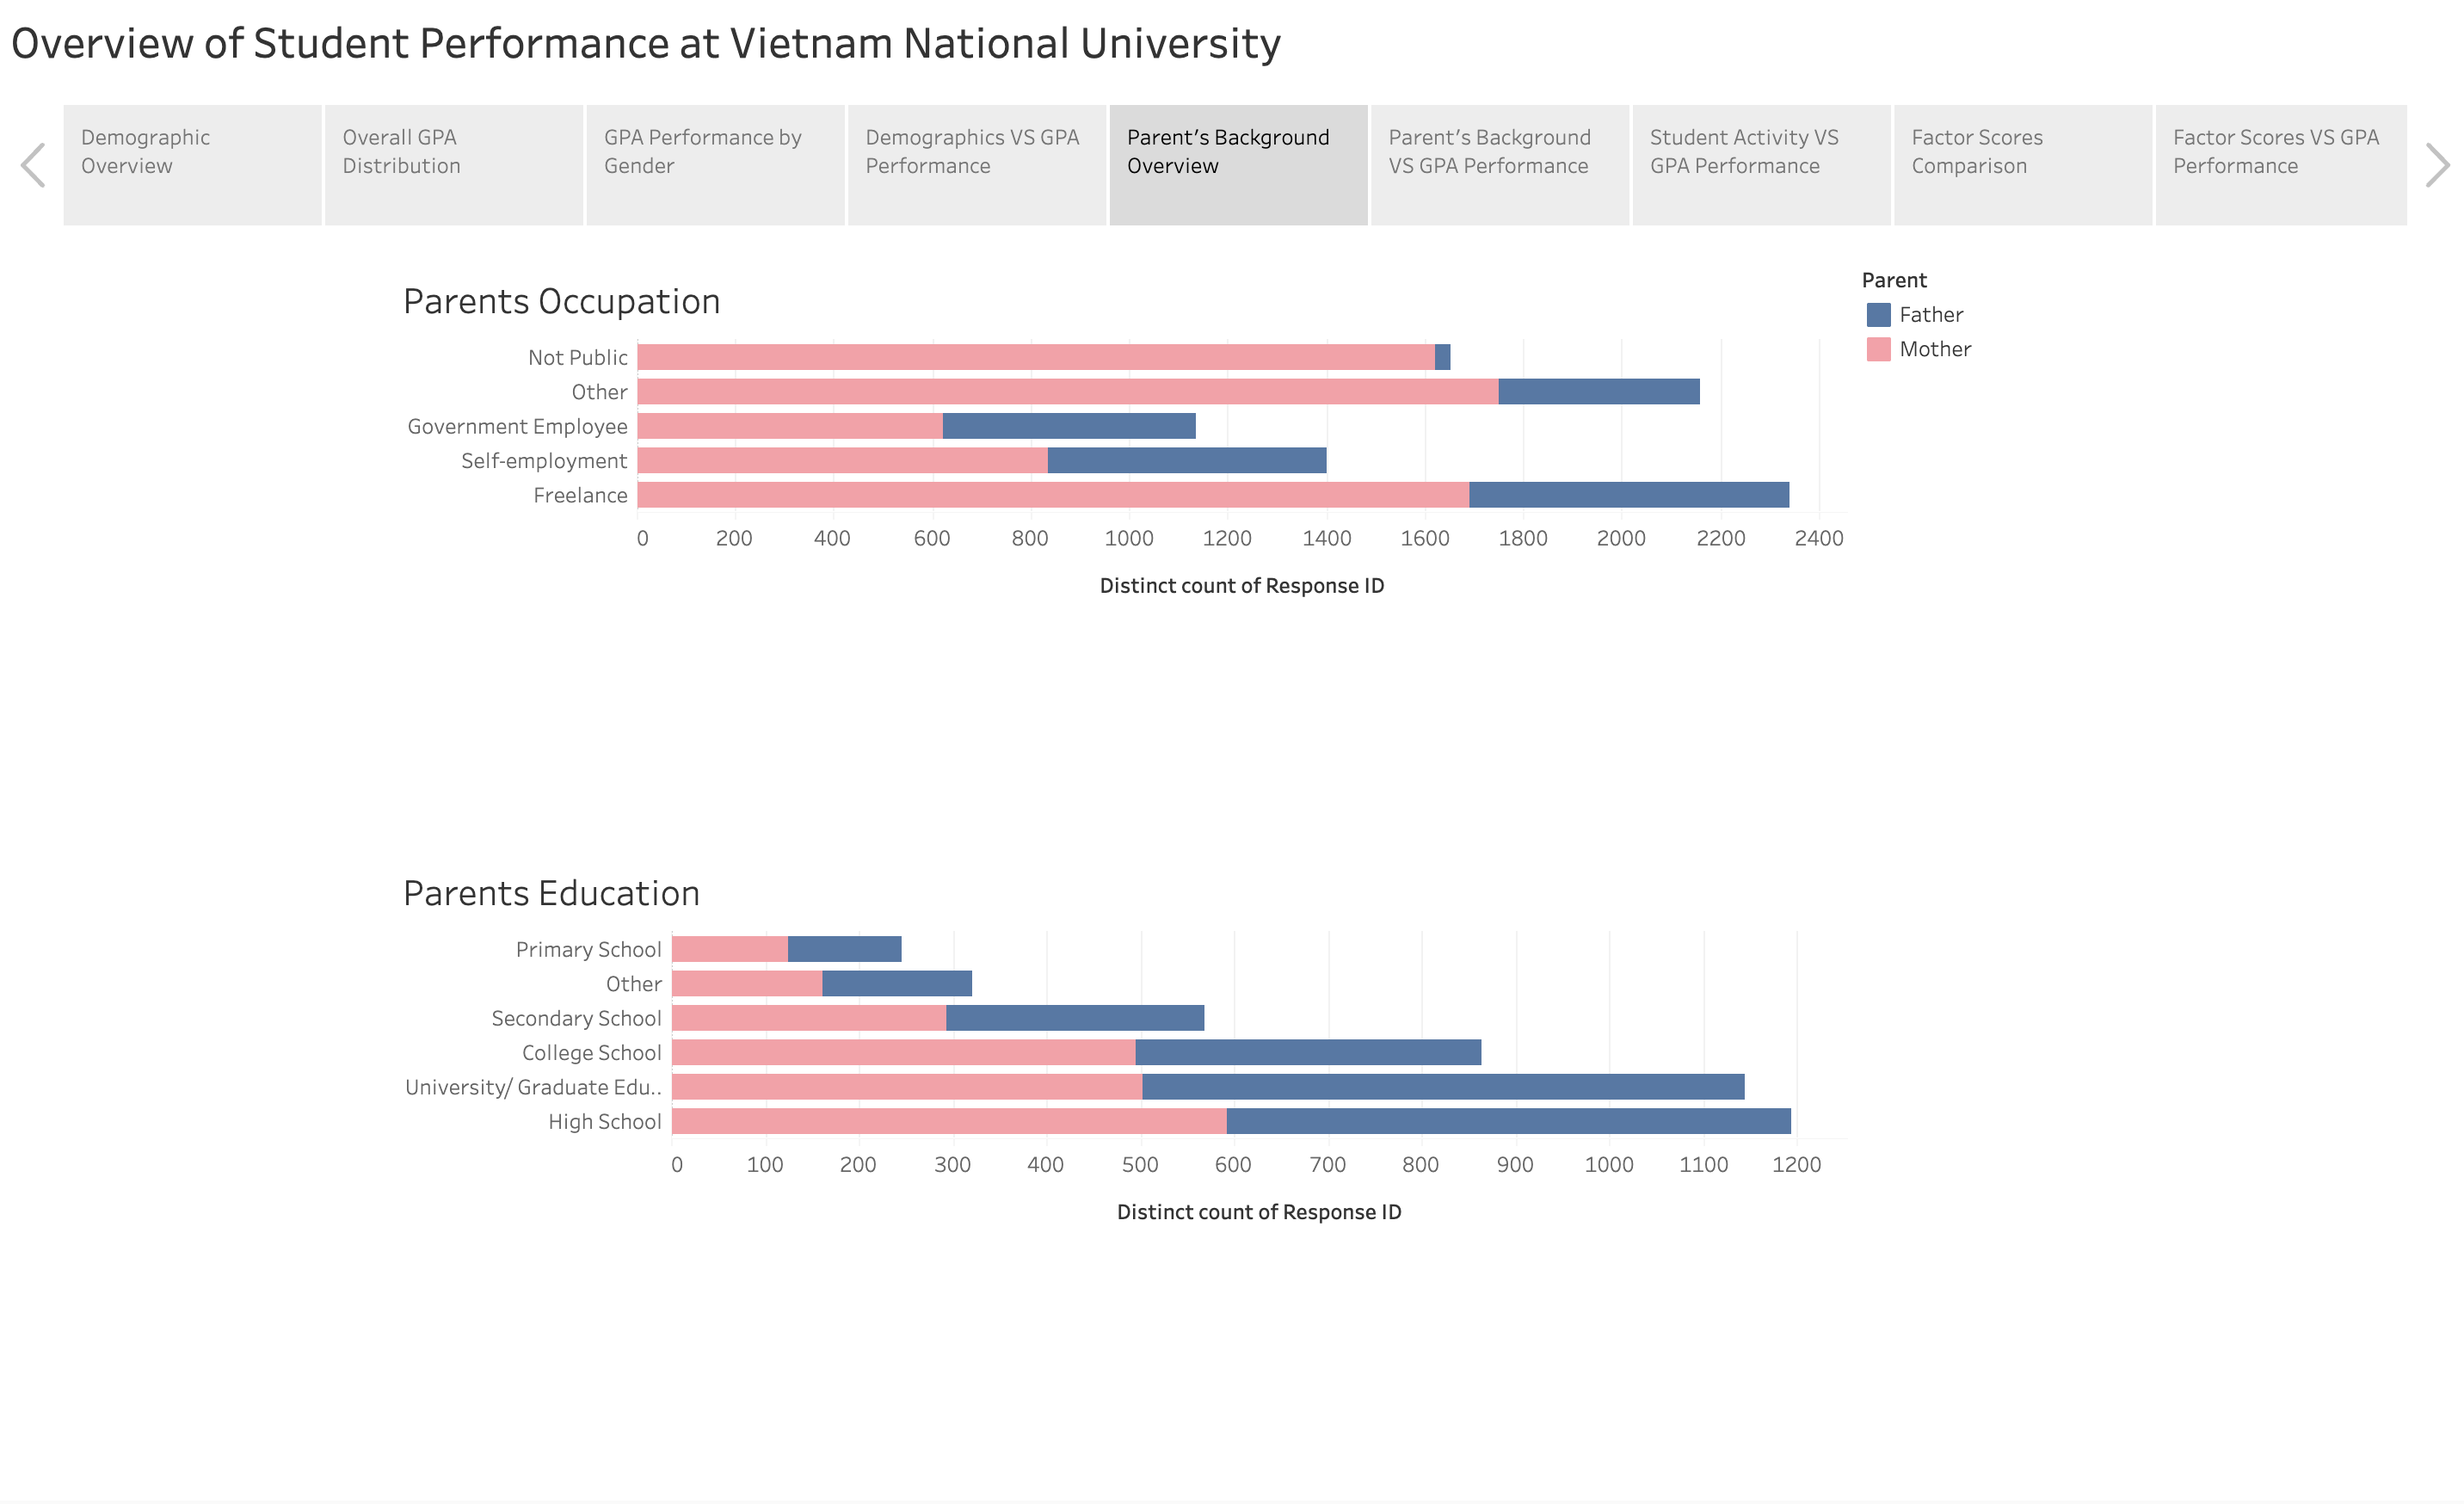

What the dashboard file says about the page in this screenshot:
{"tool":"tableau","page":{"name":"Parents Background","canvas":[1000,800],"ordinal":6},"visuals":[{"type":"worksheet","title":"Parents Occupation","mark":"Bar","rows":["Parent Education Label (copy)_0564434686181391"],"cols":["Response ID"],"box":[8,8,852,344]},{"type":"legend","title":"Parents Education","param":"[federated.05jevnn1tfsfa413nsuds1rxwbeq].[none:Calculation_0564434679889932:nk]","box":[860,8,132,66]},{"type":"worksheet","title":"Parents Education","mark":"Bar","rows":["Calculation_0564434684051470"],"cols":["Response ID"],"box":[8,352,852,440]}]}

Visuals, with their boxes on the page's 1000x800 design canvas (x1, y1, x2, y2). These are canvas units, not pixel positions in the 2464x1504 screenshot, which may show the page scaled, cropped or inside an application window:
"Parents Occupation" worksheet (Bar marks): x1=8 y1=8 x2=860 y2=352
"Parents Education" legend: x1=860 y1=8 x2=992 y2=74
"Parents Education" worksheet (Bar marks): x1=8 y1=352 x2=860 y2=792
